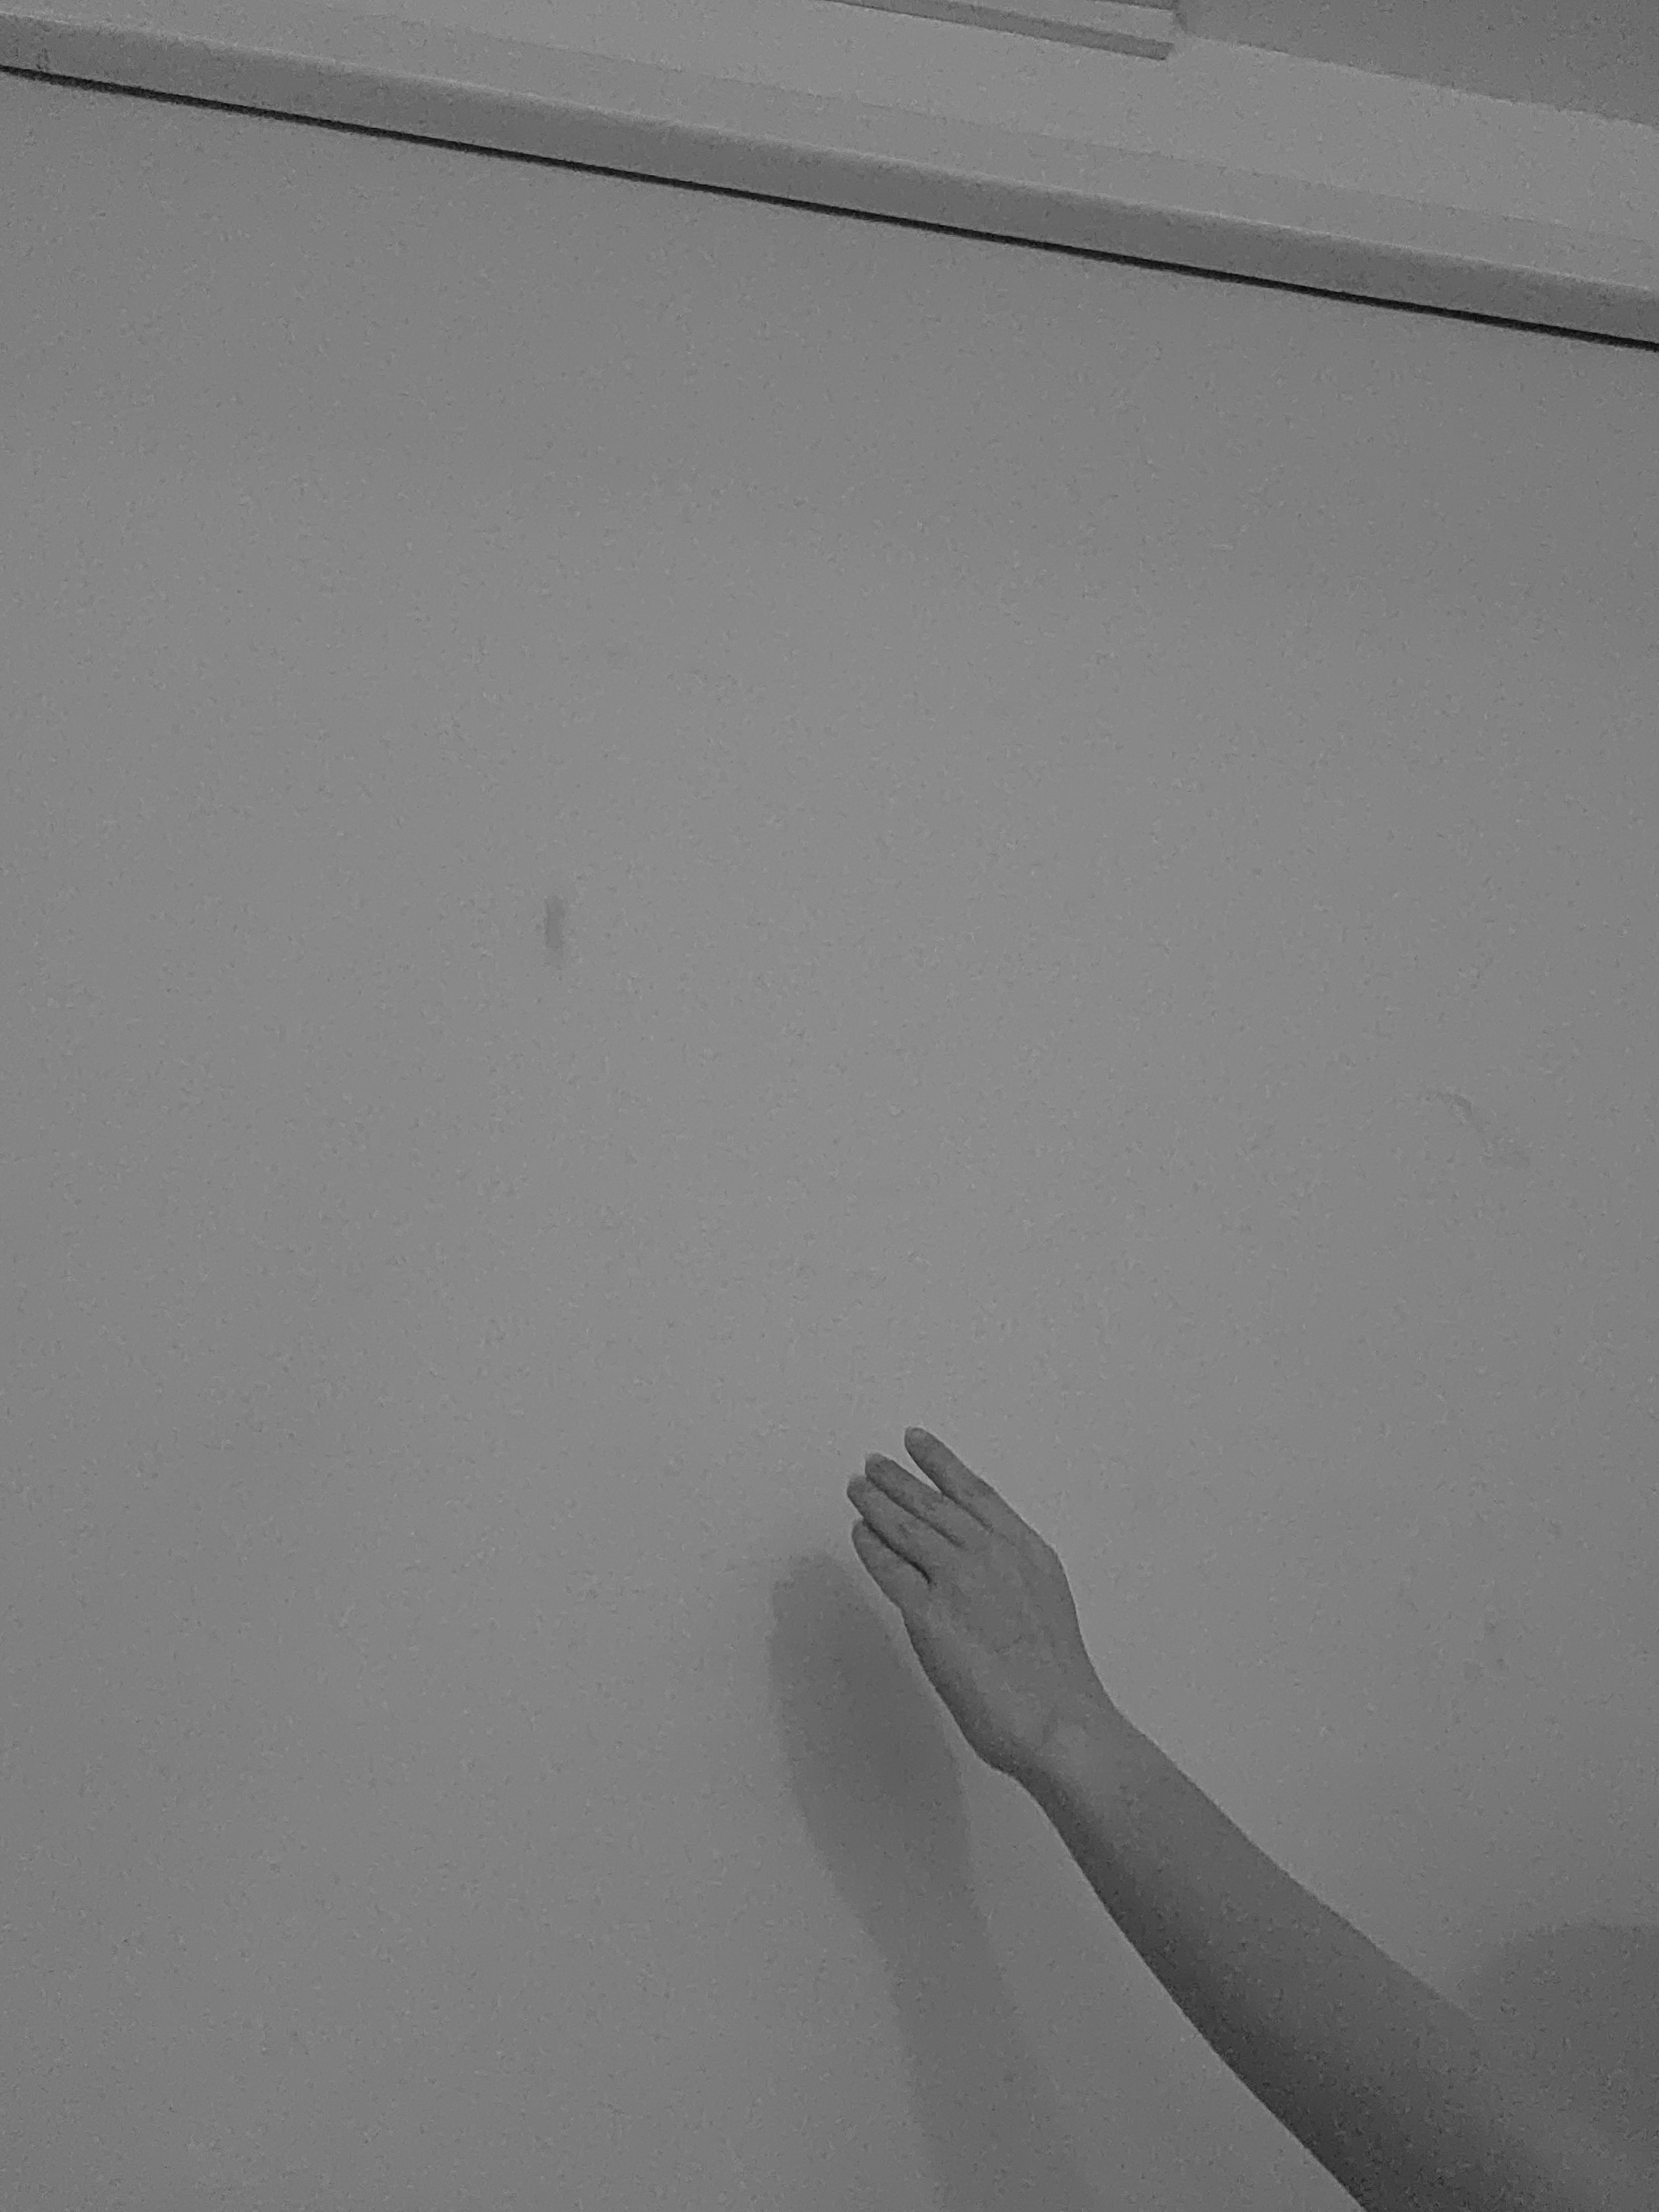pointing_gesture: (842, 1414, 1121, 1780)
